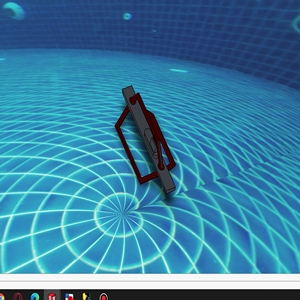submarine: (117, 81, 186, 198)
